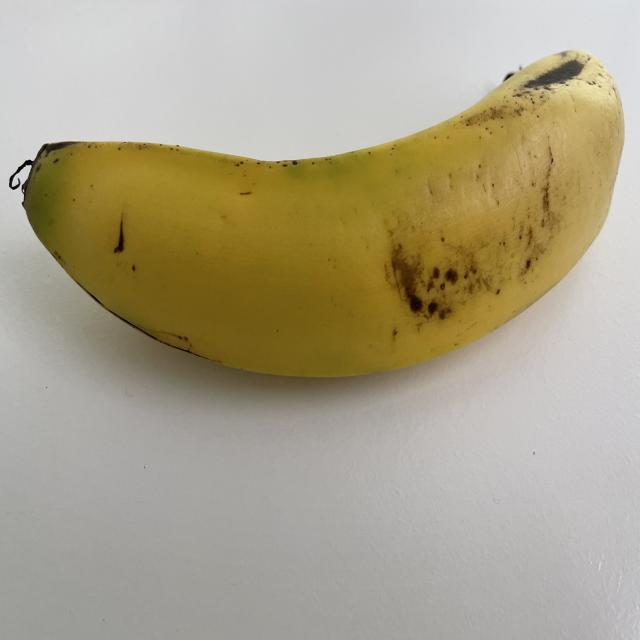banana: (2, 44, 626, 388)
